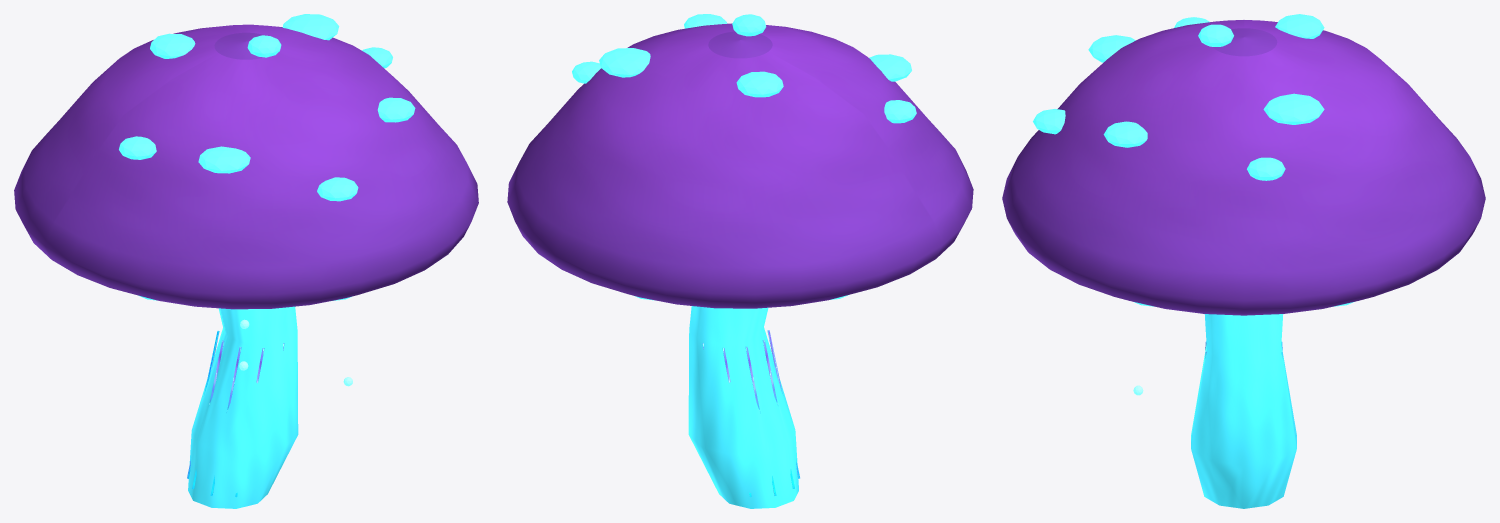
Rendered from forest_mushroom_purple.glb.
3 views of the same model, side by side, from view 1: azimuth 30°, elevation 25°; view 2: azimuth 150°, elevation 25°; view 3: azimuth 270°, elevation 25° (orthographic). The views are drawn at different scales.
Visible parts, largest first — view 1: Broad faceted mushroom cap.001, Curving luminous mushroom stem.001, Bioluminescent cap spot.008, Bioluminescent cap spot.012, Bioluminescent cap spot.011, Bioluminescent cap spot.010, Bioluminescent cap spot.009, Bioluminescent cap spot.014, Bioluminescent cap spot.013; view 2: Broad faceted mushroom cap.001, Curving luminous mushroom stem.001, Bioluminescent cap spot.012, Bioluminescent cap spot.011, Bioluminescent cap spot.008, Bioluminescent cap spot.014, Bioluminescent cap spot.013; view 3: Broad faceted mushroom cap.001, Curving luminous mushroom stem.001, Bioluminescent cap spot.012, Bioluminescent cap spot.009, Bioluminescent cap spot.011, Bioluminescent cap spot.008, Bioluminescent cap spot.015, Bioluminescent cap spot.010, Bioluminescent cap spot.013.
Part boxes in pixels (x1,y1,x2,y2): Broad faceted mushroom cap.001: [14, 24, 478, 309]; Curving luminous mushroom stem.001: [188, 306, 298, 508]; Bioluminescent cap spot.008: [198, 146, 250, 173]; Bioluminescent cap spot.012: [282, 14, 339, 40]; Bioluminescent cap spot.011: [150, 33, 195, 58]; Bioluminescent cap spot.010: [317, 177, 358, 201]; Bioluminescent cap spot.009: [377, 97, 415, 122]; Bioluminescent cap spot.014: [119, 136, 156, 159]; Bioluminescent cap spot.013: [247, 35, 281, 57]; Broad faceted mushroom cap.001: [507, 23, 973, 308]; Curving luminous mushroom stem.001: [688, 306, 798, 508]; Bioluminescent cap spot.012: [599, 48, 650, 77]; Bioluminescent cap spot.011: [736, 71, 783, 97]; Bioluminescent cap spot.008: [869, 54, 911, 81]; Bioluminescent cap spot.014: [884, 100, 916, 123]; Bioluminescent cap spot.013: [732, 14, 766, 36]; Broad faceted mushroom cap.001: [1002, 20, 1485, 315]; Curving luminous mushroom stem.001: [1191, 314, 1296, 508]; Bioluminescent cap spot.012: [1263, 93, 1324, 124]; Bioluminescent cap spot.009: [1103, 121, 1147, 147]; Bioluminescent cap spot.011: [1275, 14, 1324, 38]; Bioluminescent cap spot.008: [1088, 35, 1135, 62]; Bioluminescent cap spot.015: [1247, 157, 1285, 180]; Bioluminescent cap spot.010: [1033, 109, 1065, 134]; Bioluminescent cap spot.013: [1198, 24, 1233, 46].
Size of the model in its own units: 1.74 by 1.89 by 1.74.
Materials: 5 (3 with a texture image).
